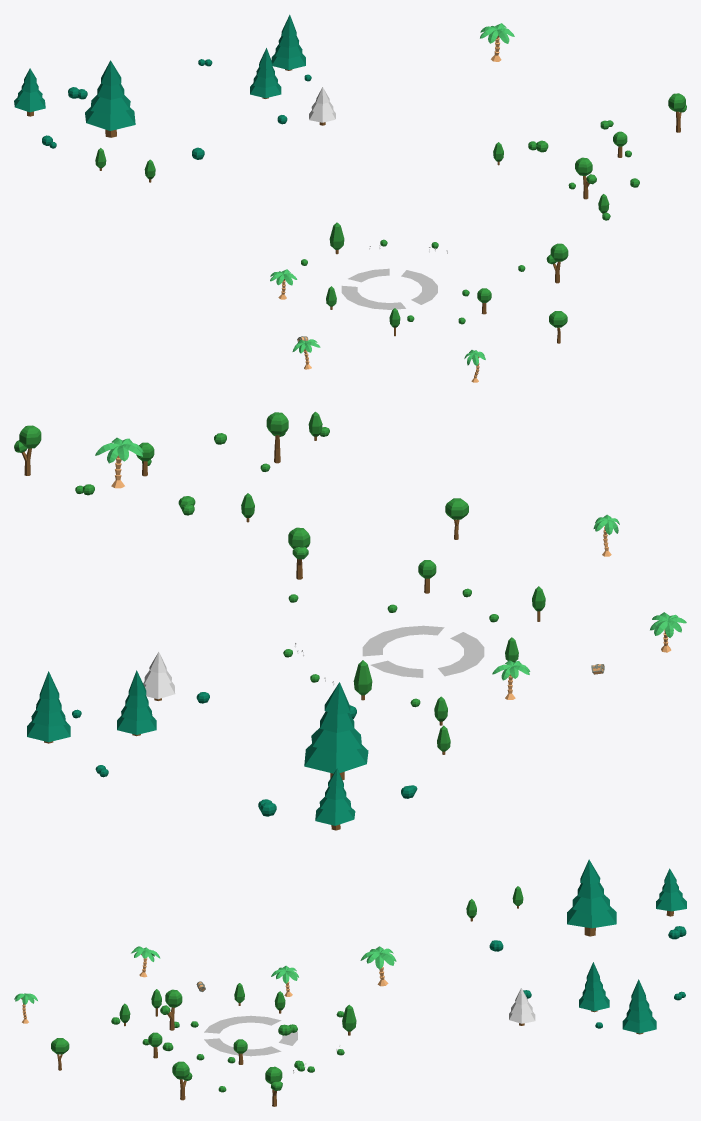
The model's file is zoo foliage.fbx.
3 views of the same model, one above another, from view 1: azimuth 30°, elevation 25°; view 2: azimuth 150°, elevation 25°; view 3: azimuth 270°, elevation 25° (orthographic). The views are drawn at different scales.
Visible parts, largest first — view 1: Null_5_2, floor_fountain, Null_6_2, Null_3, Null_4, bushes, Null_2; view 2: Null_5_2, floor_fountain, Null_6_2, Null_3, Null_4, Null_2, bushes, bushes_3, Null_8, Null_2_3, Null_2_8; view 3: Null_5_2, floor_fountain, Null_6_2, Null_3, Null_4, Null_2, bushes_3, bushes, Null_7_3, Null_2_8, Null_8, Null_2_3.
Part boxes in pixels (x1,y1,x2,y2): Null_5_2: (85, 60, 135, 130); floor_fountain: (341, 268, 437, 309); Null_6_2: (271, 14, 305, 69); Null_3: (250, 48, 281, 98); Null_4: (14, 68, 45, 112); bushes: (42, 59, 311, 159); Null_2: (309, 87, 335, 122); Null_5_2: (304, 682, 368, 773); floor_fountain: (362, 625, 484, 677); Null_6_2: (27, 671, 70, 742); Null_3: (117, 670, 156, 734); Null_4: (315, 768, 355, 825); Null_2: (143, 652, 175, 699); bushes: (72, 692, 417, 816); bushes_3: (75, 427, 329, 515); Null_8: (14, 425, 41, 475); Null_2_3: (288, 527, 310, 579); Null_2_8: (95, 437, 143, 463); Null_5_2: (567, 859, 616, 928); floor_fountain: (204, 1015, 297, 1056); Null_6_2: (622, 979, 656, 1033); Null_3: (579, 962, 609, 1011); Null_4: (656, 868, 686, 911); Null_2: (509, 988, 535, 1023); bushes_3: (111, 1017, 304, 1071); bushes: (489, 926, 686, 1028); Null_7_3: (160, 989, 182, 1030); Null_2_8: (360, 946, 396, 969); Null_8: (265, 1066, 282, 1106); Null_2_3: (172, 1061, 192, 1100).
Size of the model in its own units: 612 by 220 by 759.
